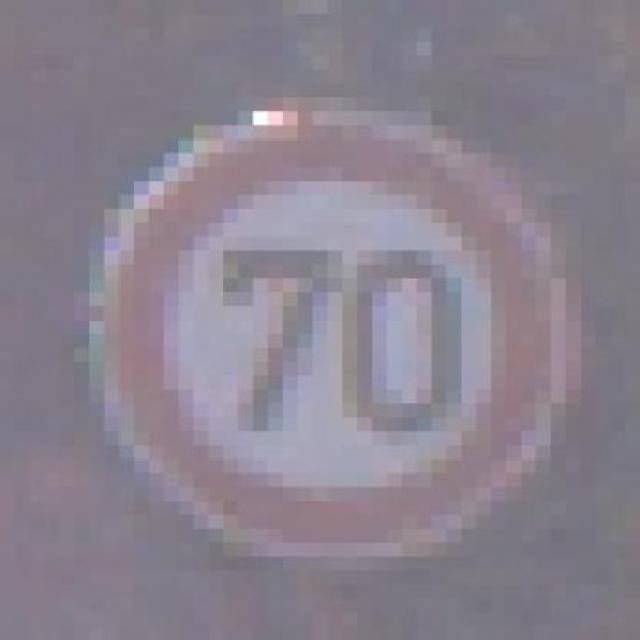forb_speed_over_70: (102, 119, 566, 553)
